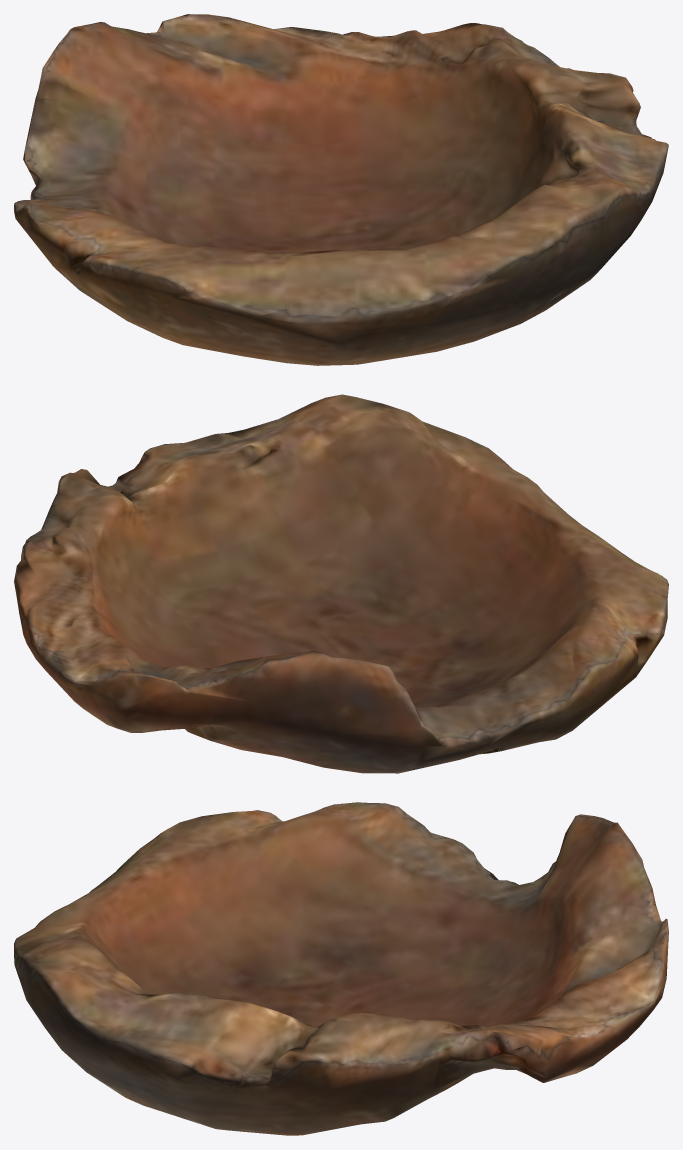
Rendered from wooden_bowl_01.glb.
3 renders of one model, top to bottom at view 1: azimuth 30°, elevation 25°; view 2: azimuth 150°, elevation 25°; view 3: azimuth 270°, elevation 25°, orthographic. The views are drawn at different scales.
Parts seen in each view (by area): view 1: wooden_bowl_01; view 2: wooden_bowl_01; view 3: wooden_bowl_01.
Boxes of the visible parts, <box> form: wooden_bowl_01: <box>14,14,668,365</box>; wooden_bowl_01: <box>14,394,668,773</box>; wooden_bowl_01: <box>14,802,668,1135</box>.
Size of the model in its own units: 0.3127 by 0.0935 by 0.3088.
1 material, 1 textured.
